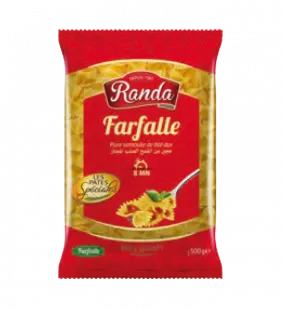RANDA: (52, 20, 228, 284)
